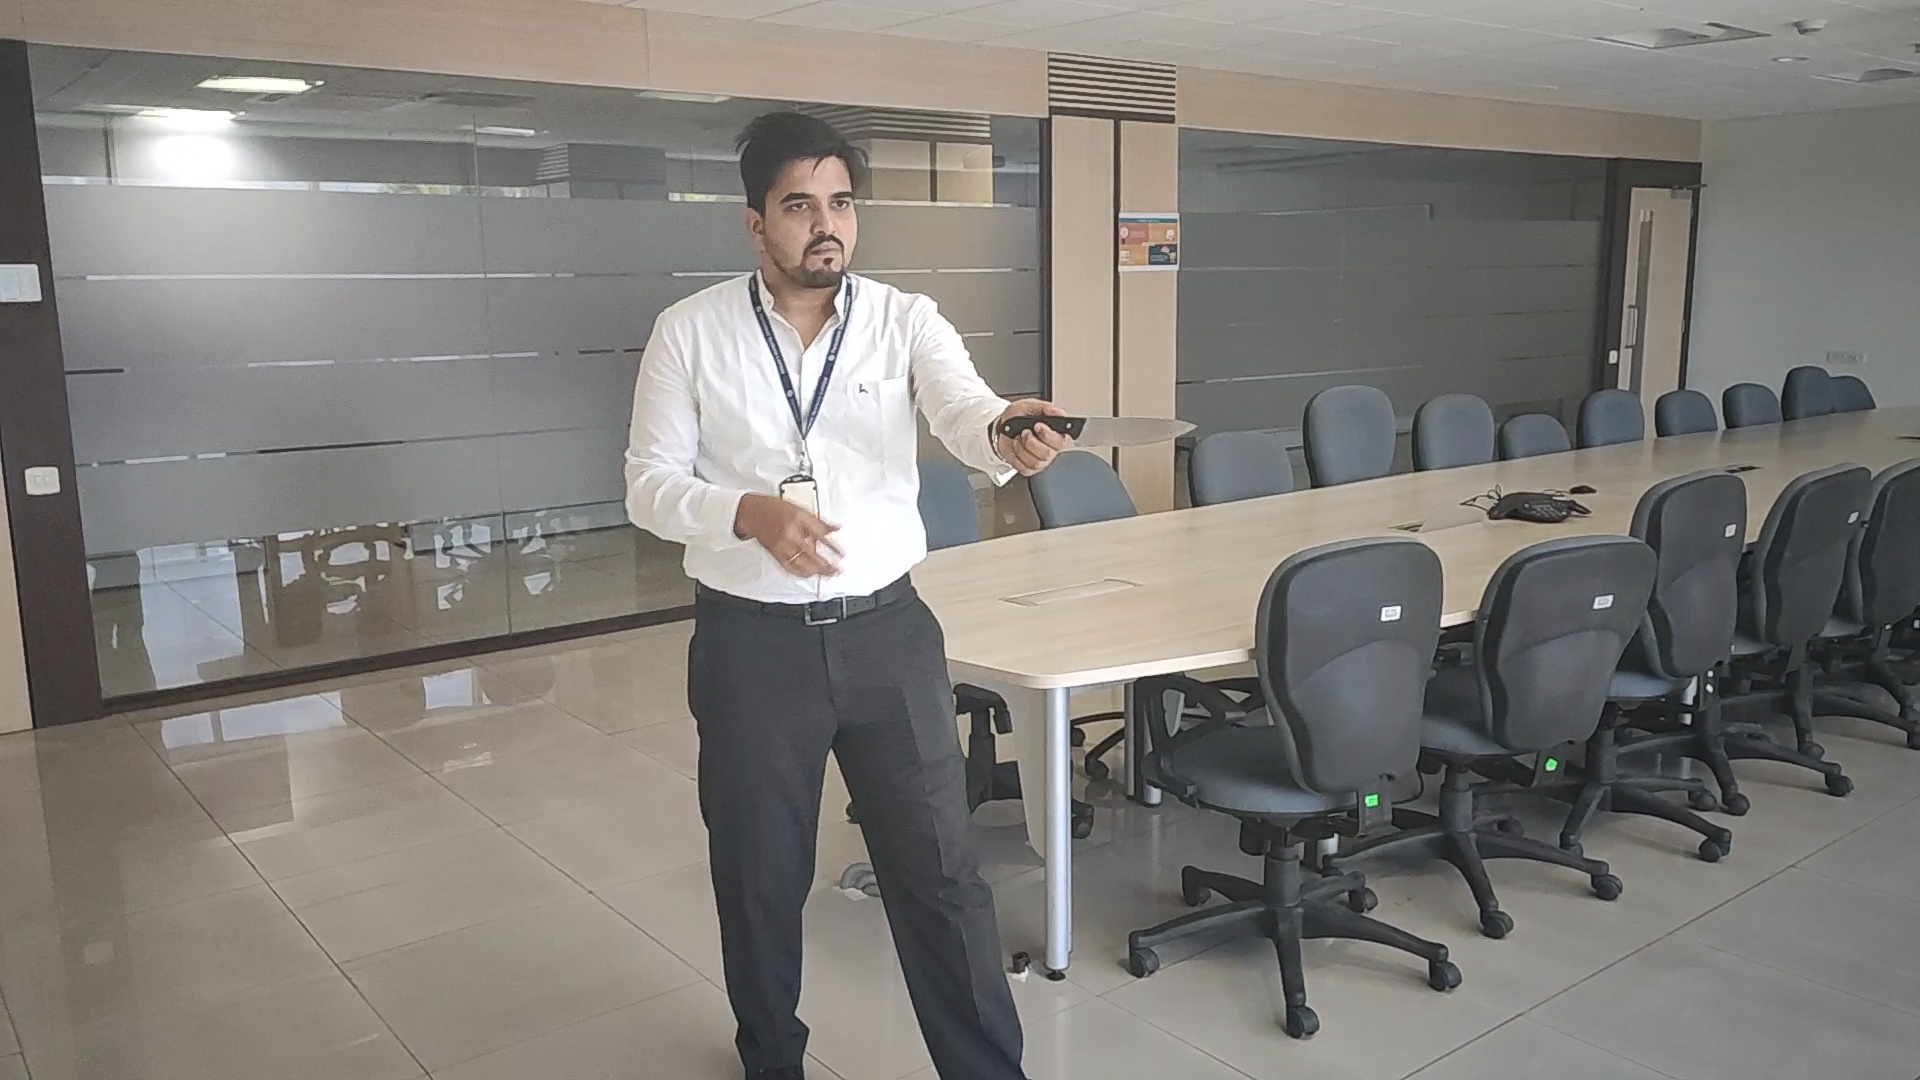knife: (1069, 415, 1200, 447)
